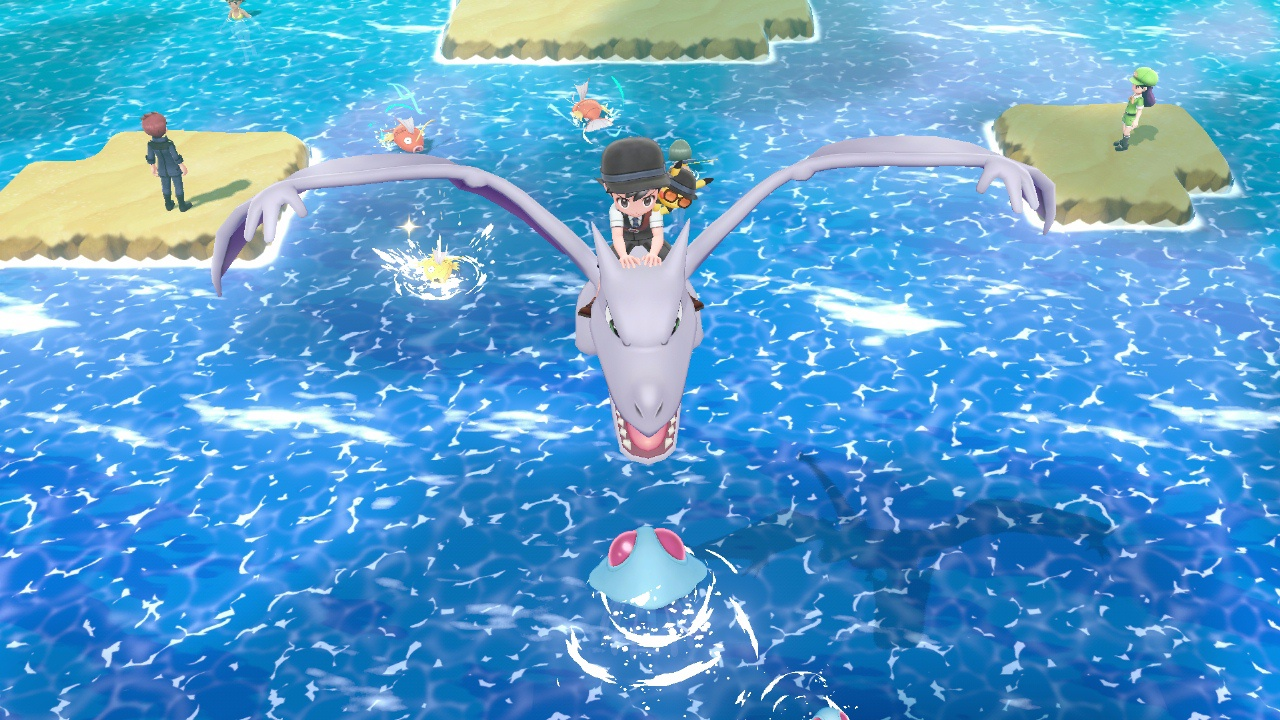Golden: (420, 249, 458, 286)
Red: (570, 82, 615, 134), (384, 116, 431, 149)
